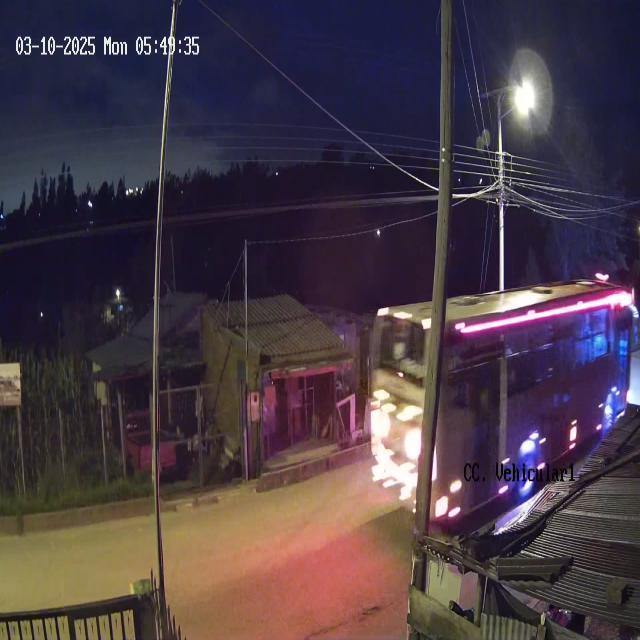BUS: (367, 280, 636, 540)
